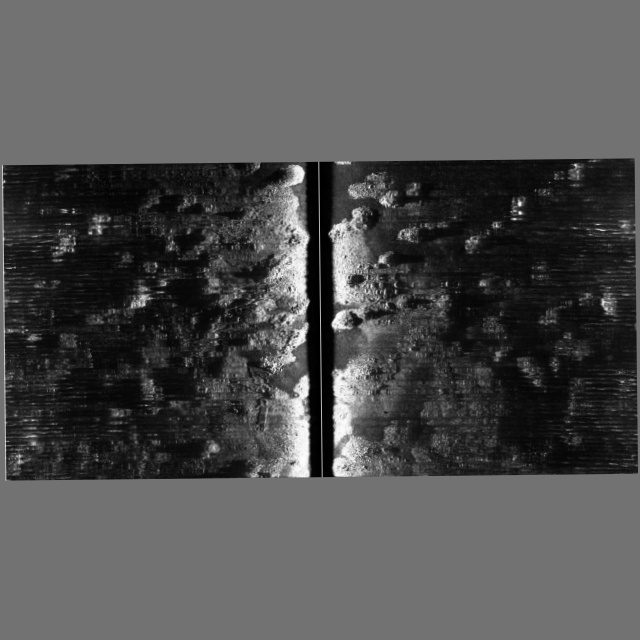Shipwreck: (257, 398, 269, 432)
